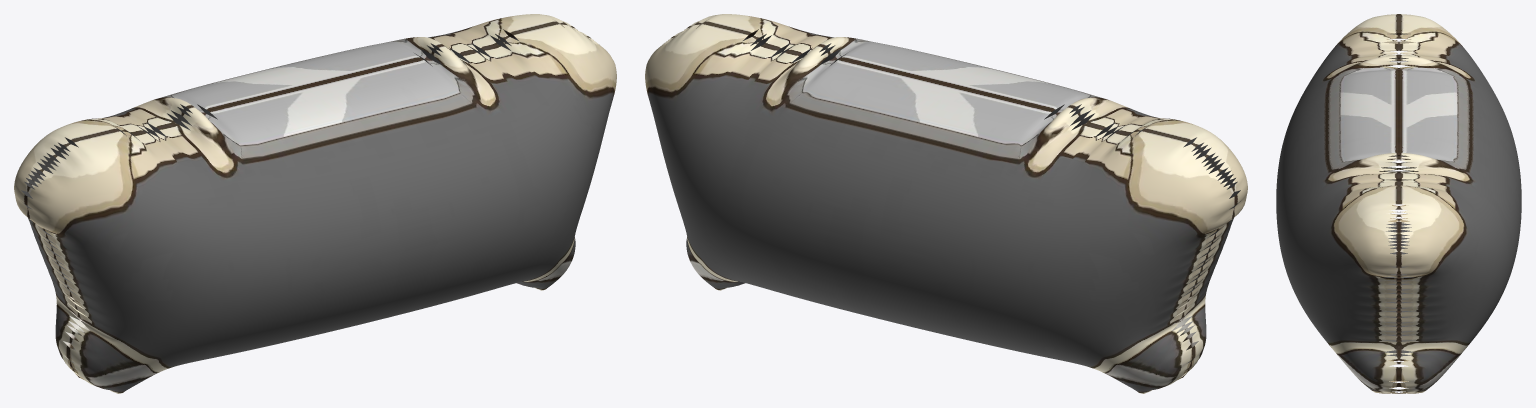
File: suspended_panel.glb
The picture shows the model from 3 angles, left to right: view 1: azimuth 30°, elevation 25°; view 2: azimuth 150°, elevation 25°; view 3: azimuth 270°, elevation 25°; orthographic projection. The views are drawn at different scales.
Parts seen in each view (by area): view 1: suspended_panel; view 2: suspended_panel; view 3: suspended_panel.
Boxes of the visible parts, <box> form: suspended_panel: <box>14,14,616,393</box>; suspended_panel: <box>645,14,1247,393</box>; suspended_panel: <box>1276,14,1521,393</box>.
Size of the model in its own units: 0.989 by 0.4169 by 0.4542.
1 material, 1 textured.
